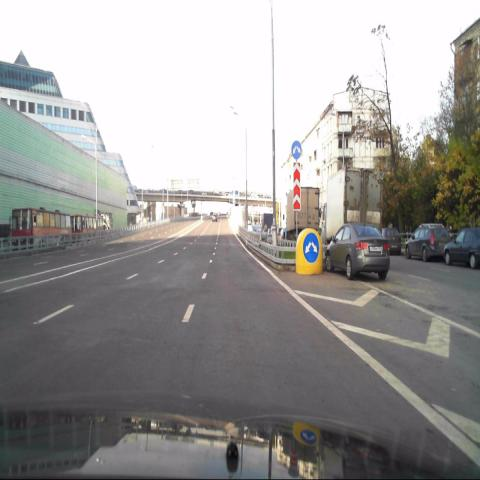4_2_3: (303, 232, 319, 264)
